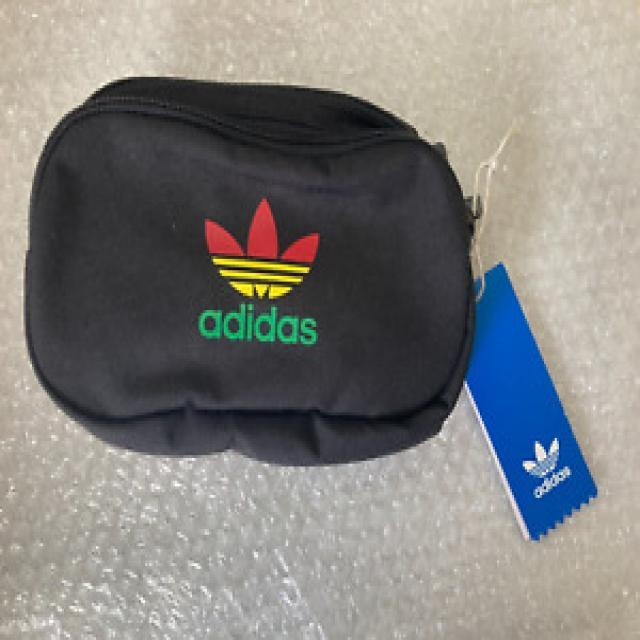Adidas: (198, 196, 322, 351), (525, 433, 572, 500)
